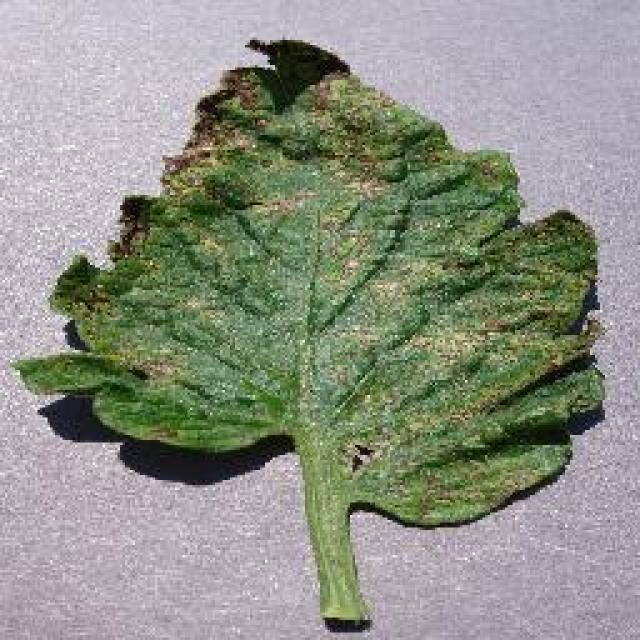Tomato target spot leaf: (22, 34, 602, 531)
